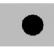correct: (20, 14, 46, 38)
